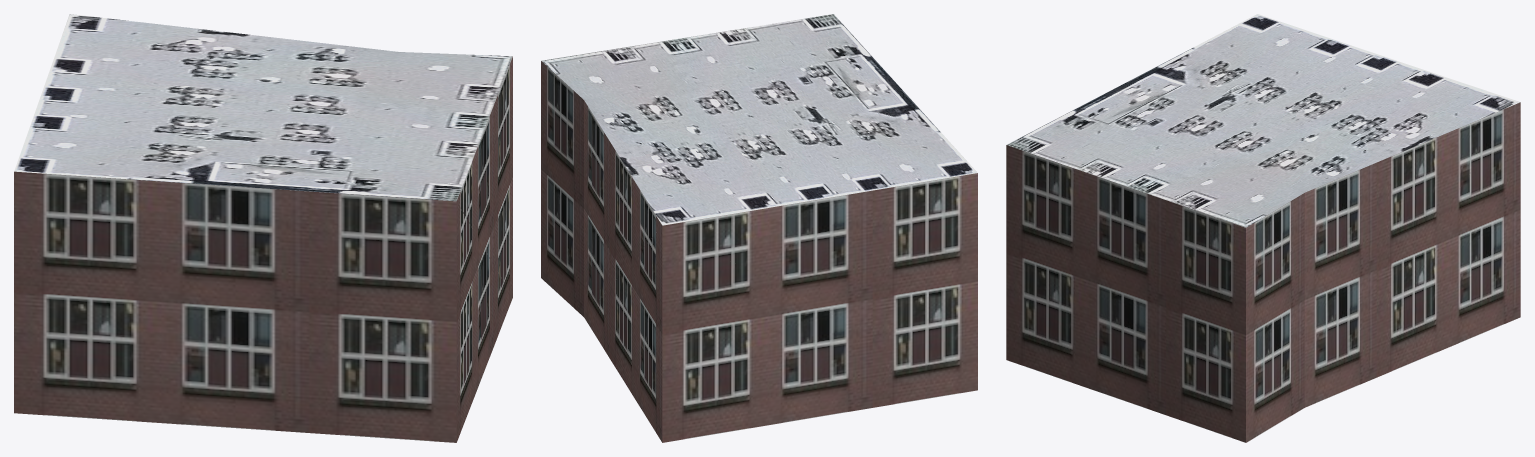
File: ResTex__2326.fbx
The picture shows the model from 3 angles, left to right: view 1: azimuth 30°, elevation 25°; view 2: azimuth 150°, elevation 25°; view 3: azimuth 270°, elevation 25°; orthographic projection. The views are drawn at different scales.
Visible parts, largest first — view 1: CityEngineMaterial_12_m, CityEngineMaterial_m; view 2: CityEngineMaterial_12_m, CityEngineMaterial_m; view 3: CityEngineMaterial_12_m, CityEngineMaterial_m.
Part boxes in pixels (x1,y1,x2,y2): CityEngineMaterial_12_m: [14, 56, 512, 442]; CityEngineMaterial_m: [14, 14, 512, 201]; CityEngineMaterial_12_m: [541, 61, 977, 442]; CityEngineMaterial_m: [541, 14, 977, 225]; CityEngineMaterial_12_m: [1006, 102, 1520, 442]; CityEngineMaterial_m: [1007, 14, 1519, 227].
Size of the model in its own units: 12.79 by 6 by 13.
2 materials, 2 textured.
